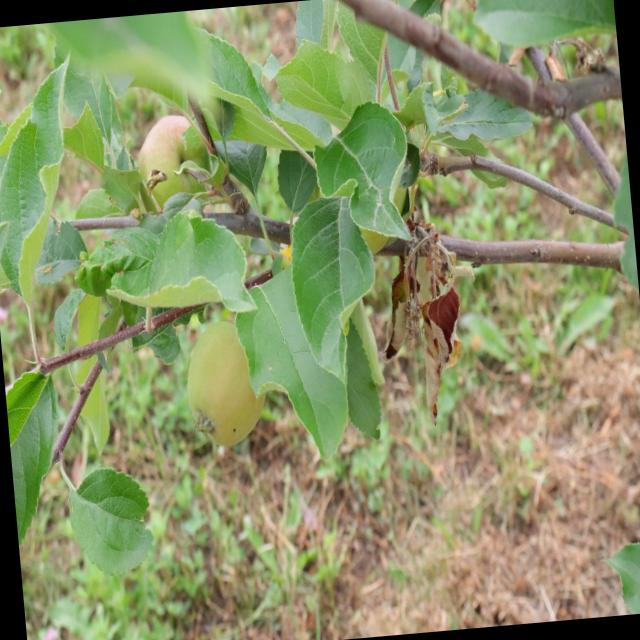-FireBlight-: (379, 232, 463, 443)
